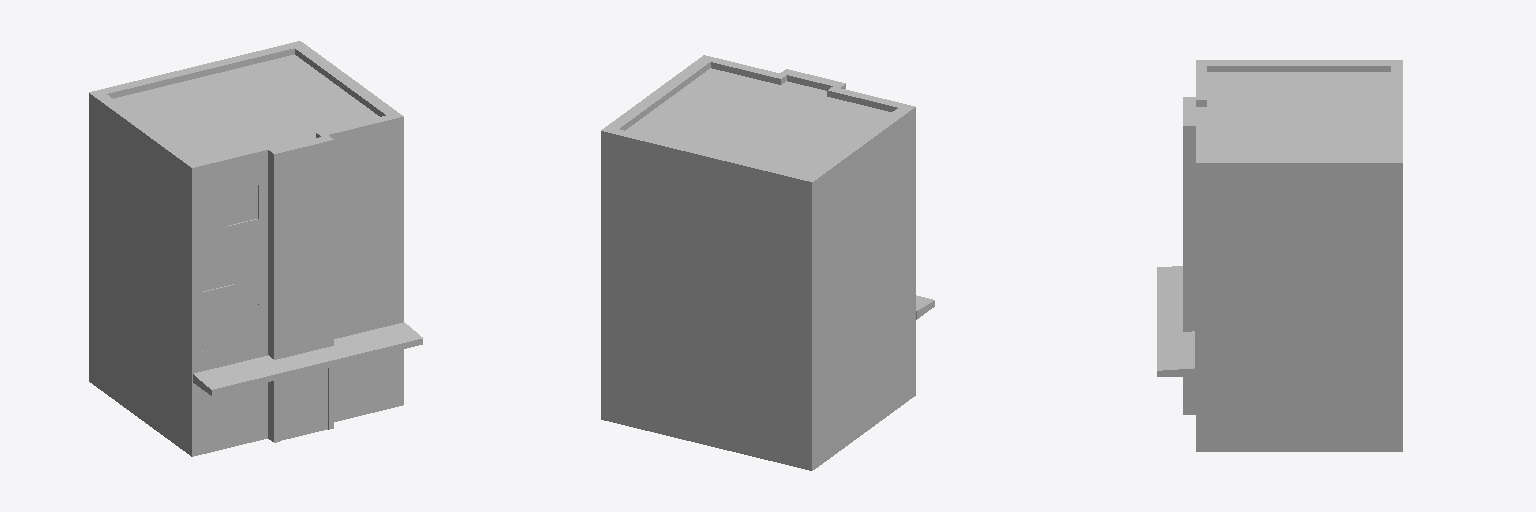
File: Building Sky_small_color01.obj
The picture shows the model from 3 angles: view 1: azimuth 30°, elevation 25°; view 2: azimuth 150°, elevation 25°; view 3: azimuth 270°, elevation 25°; orthographic projection.
Size of the model in its own units: 1300 by 1693 by 1307.